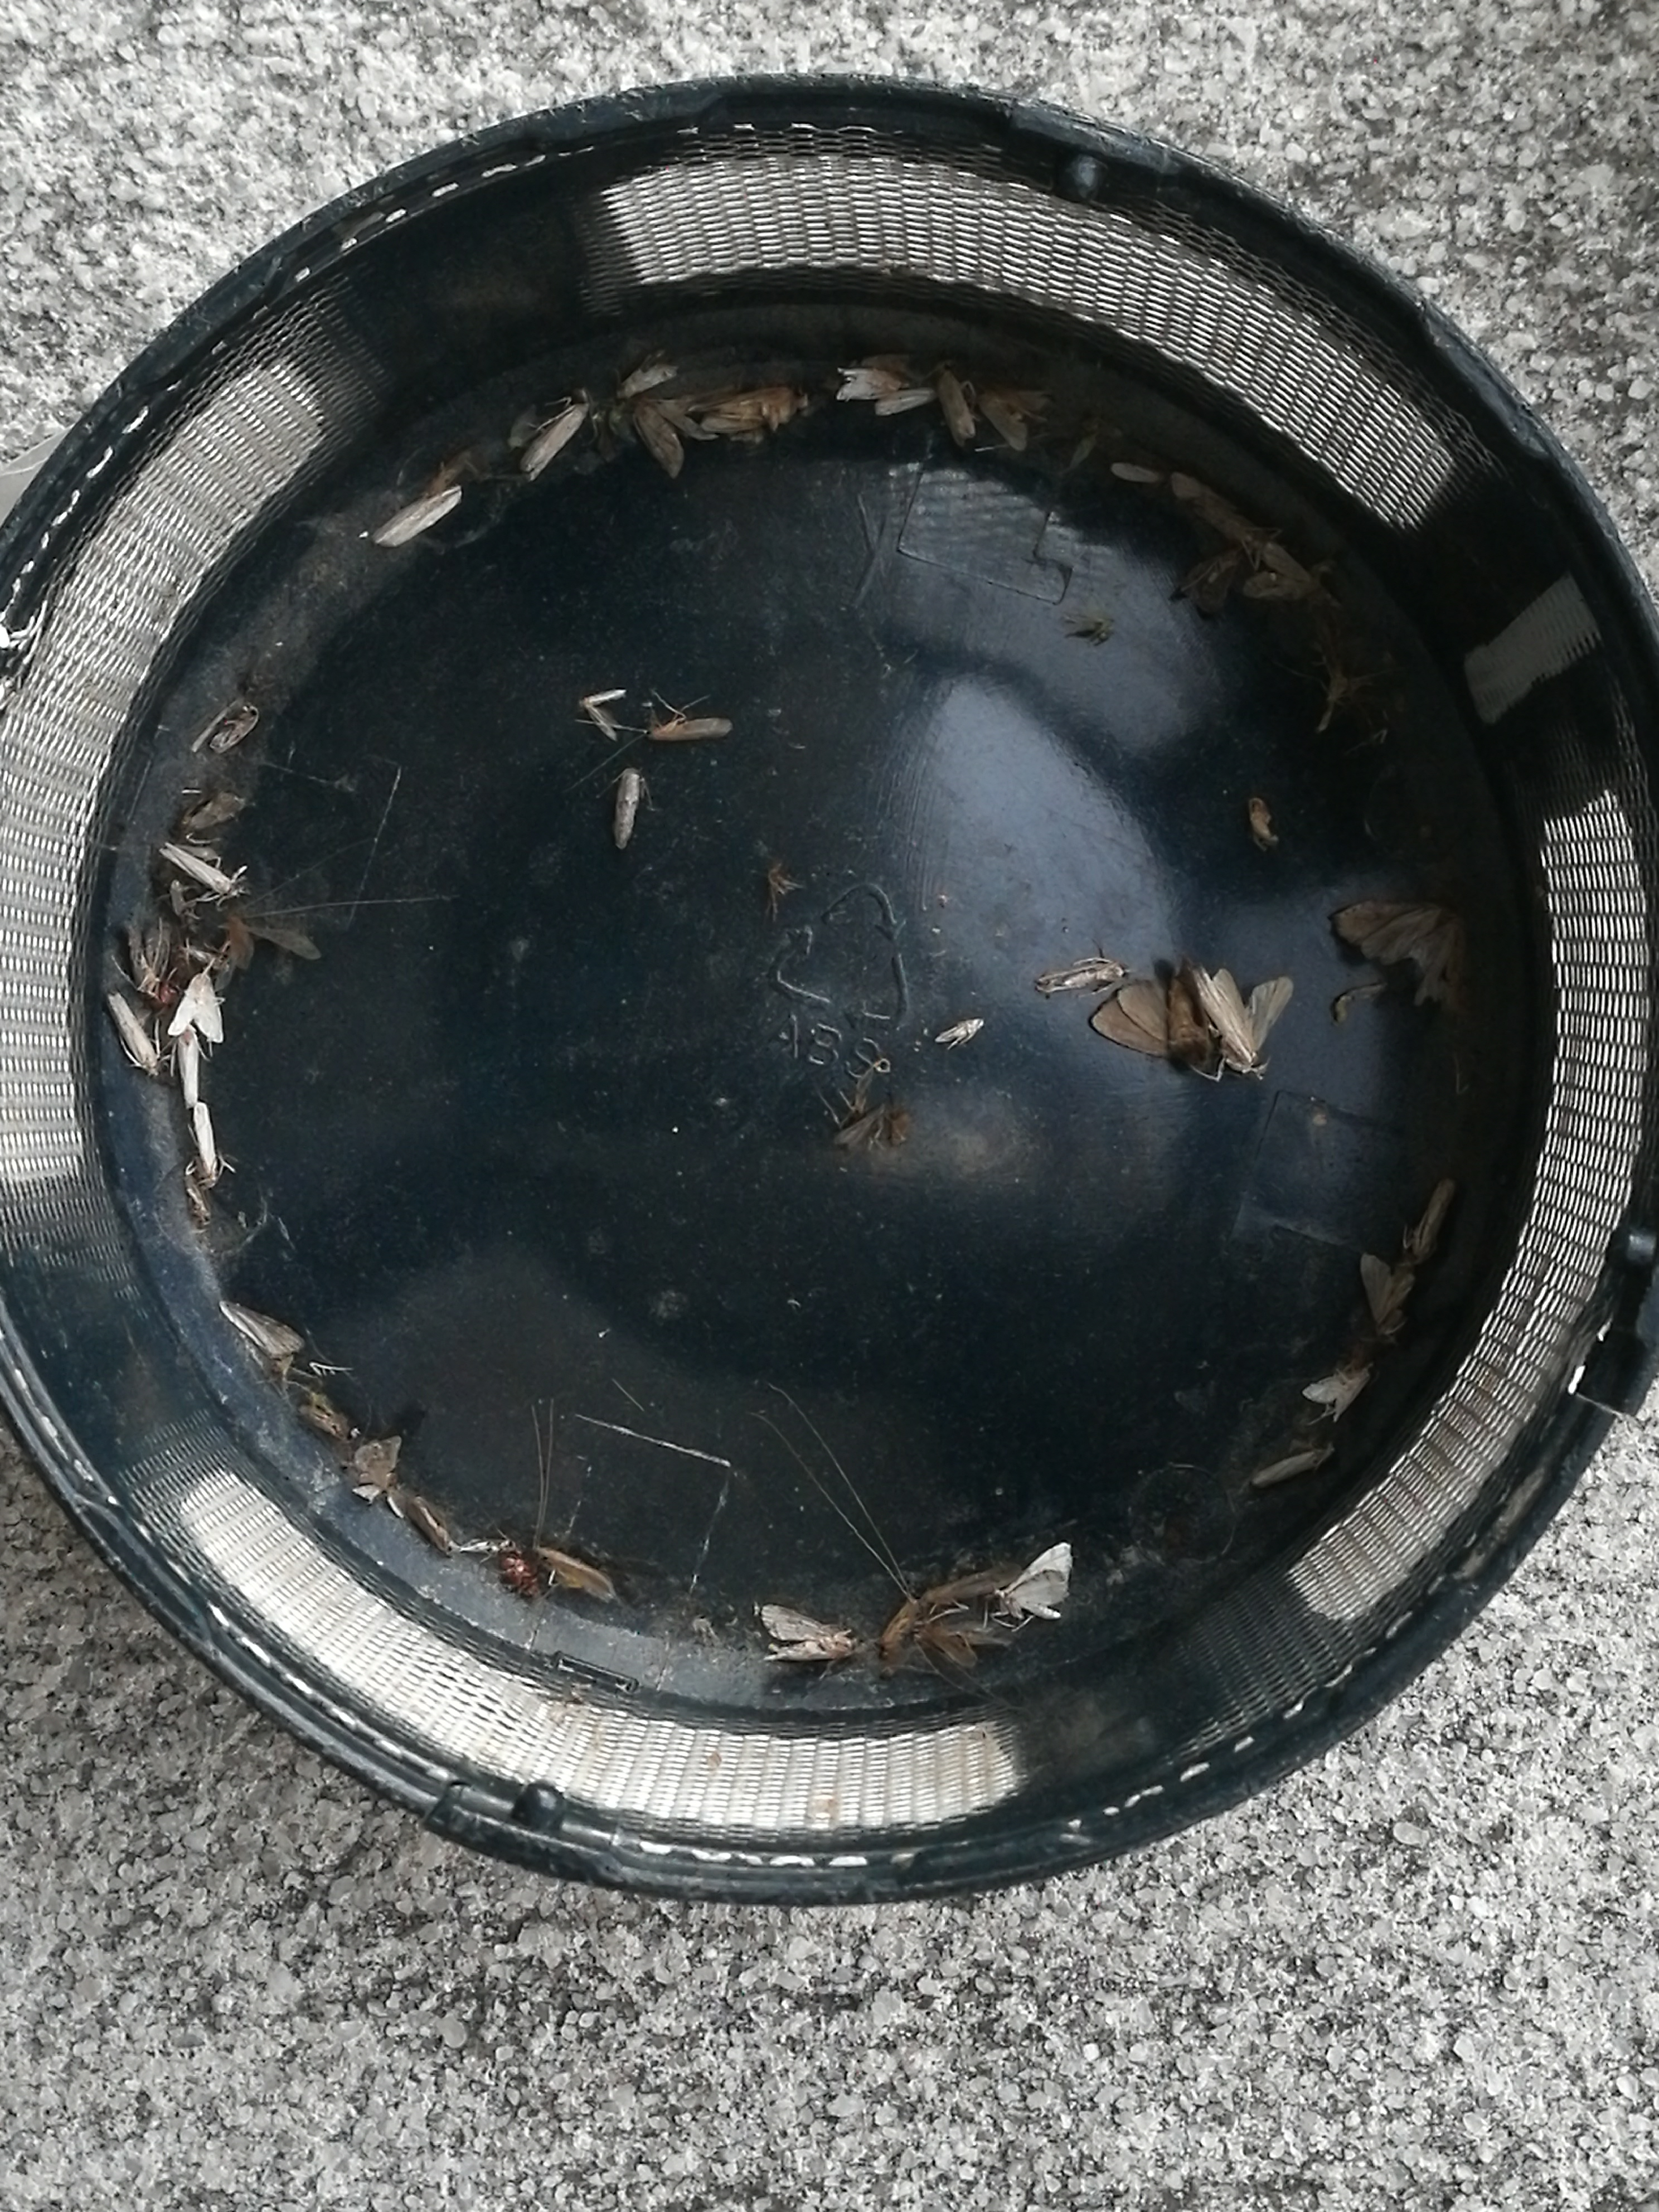mosquito: (519, 404, 589, 479), (533, 1547, 613, 1602), (105, 993, 157, 1076), (1406, 1176, 1453, 1266), (159, 845, 235, 899), (918, 1564, 1019, 1604), (936, 359, 974, 446), (1251, 1446, 1333, 1486), (1195, 500, 1265, 547), (924, 1622, 992, 1669), (1037, 961, 1129, 991), (408, 1498, 453, 1557), (619, 352, 678, 395), (645, 718, 732, 742), (209, 707, 258, 751), (613, 768, 640, 848), (878, 1602, 917, 1656), (193, 1103, 218, 1184), (178, 1028, 199, 1108), (936, 1019, 983, 1042), (464, 1538, 512, 1550)
moth: (1333, 902, 1466, 1010), (1087, 958, 1209, 1071), (1190, 965, 1293, 1073), (634, 399, 718, 481), (995, 1541, 1072, 1618), (687, 388, 809, 434), (762, 1606, 863, 1658), (1361, 1254, 1413, 1346), (1243, 540, 1321, 601), (976, 388, 1049, 451), (1302, 1360, 1377, 1421), (1178, 549, 1239, 615), (169, 974, 225, 1043), (124, 920, 167, 991), (354, 1435, 403, 1498), (298, 1392, 354, 1440), (836, 368, 906, 401)
